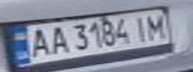1: (84, 19, 103, 48)
3: (69, 21, 90, 52)
4: (112, 16, 133, 45)
8: (100, 17, 118, 47)
A: (24, 26, 54, 60), (45, 24, 72, 56)
I: (130, 14, 151, 43)
M: (142, 11, 172, 40)
